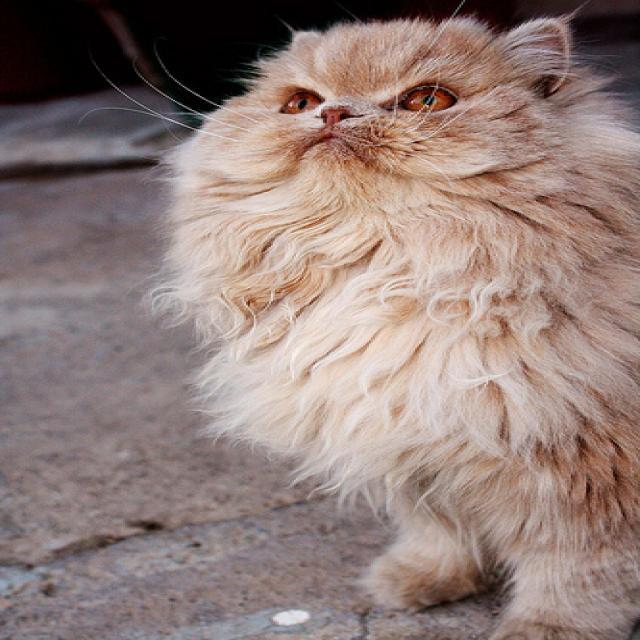Persian: (244, 16, 567, 181)
